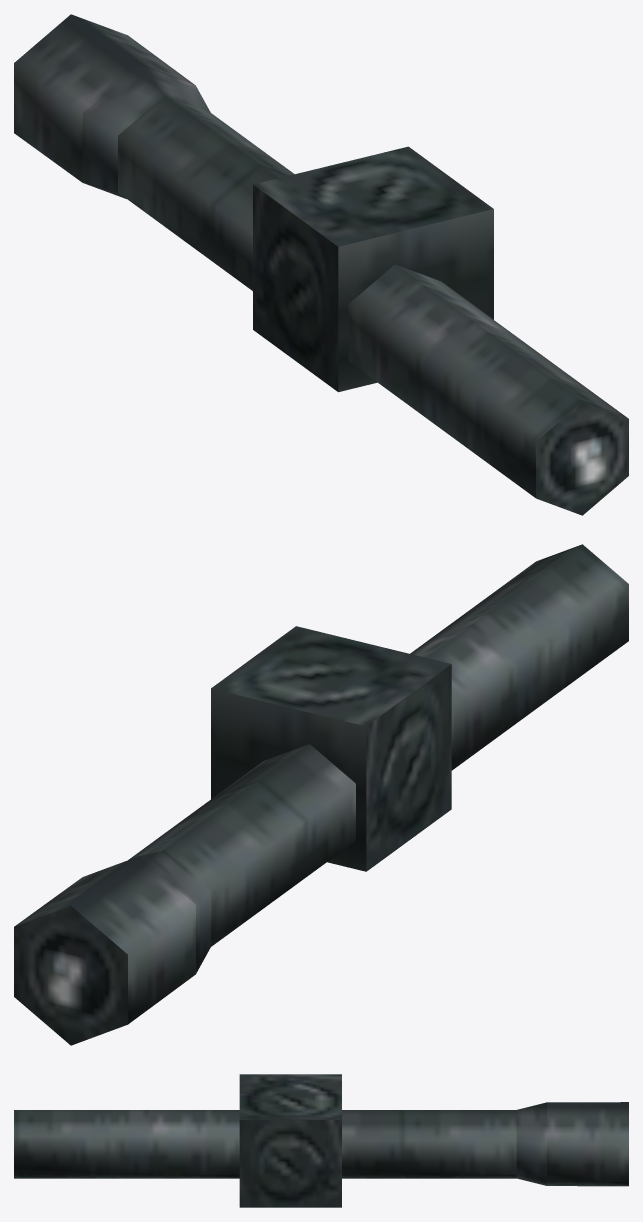
File: wp_pistol_scout_scope_l0.fbx
The picture shows the model from 3 angles, top to bottom: view 1: azimuth 30°, elevation 25°; view 2: azimuth 150°, elevation 25°; view 3: azimuth 270°, elevation 25°; orthographic projection. The views are drawn at different scales.
Parts seen in each view (by area): view 1: mesh_node; view 2: mesh_node; view 3: mesh_node.
Part boxes in pixels (<box>): mesh_node: <box>14,14,628,515</box>; mesh_node: <box>14,544,628,1045</box>; mesh_node: <box>14,1074,628,1207</box>.
Bounding box in the file's own units: 0.0358 × 0.0348 × 0.2035.
